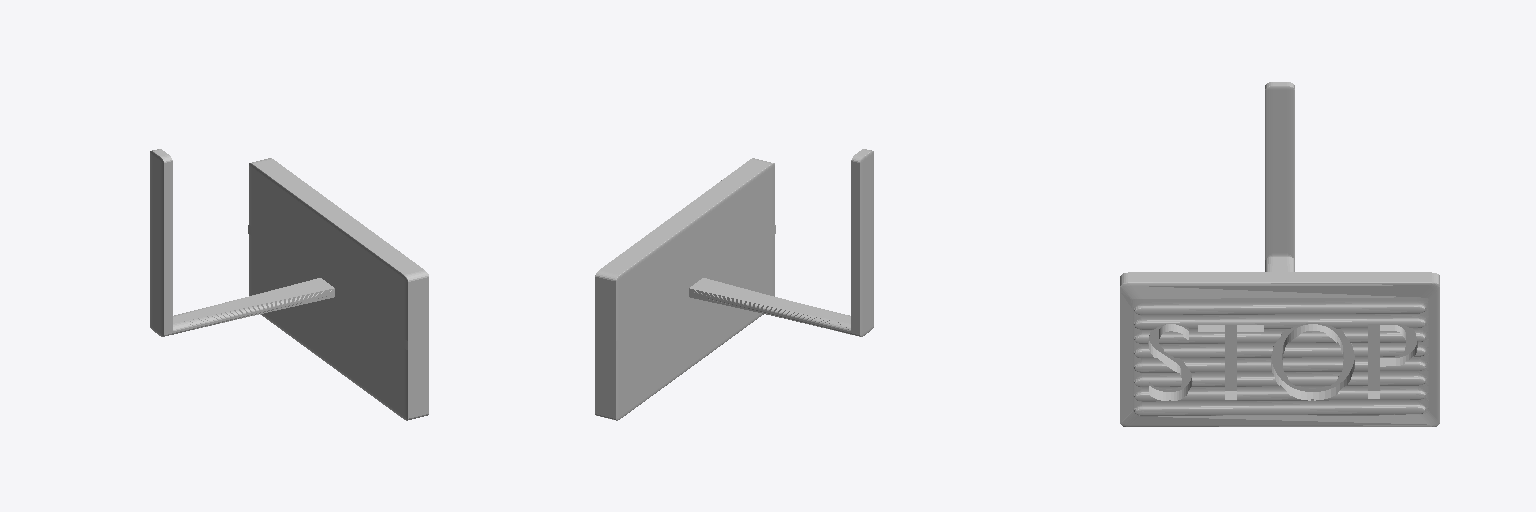
The model's file is break.obj.
3 views of the same model, side by side, from view 1: azimuth 30°, elevation 25°; view 2: azimuth 150°, elevation 25°; view 3: azimuth 270°, elevation 25° (orthographic).
Parts seen in each view (by area): view 1: Cube.001; view 2: Cube.001; view 3: Cube.001.
Part boxes in pixels (bbox=[...]): Cube.001: bbox=[150, 149, 428, 420]; Cube.001: bbox=[595, 149, 873, 420]; Cube.001: bbox=[1120, 82, 1439, 426].
Size of the model in its own units: 0.072 by 0.087 by 0.1.